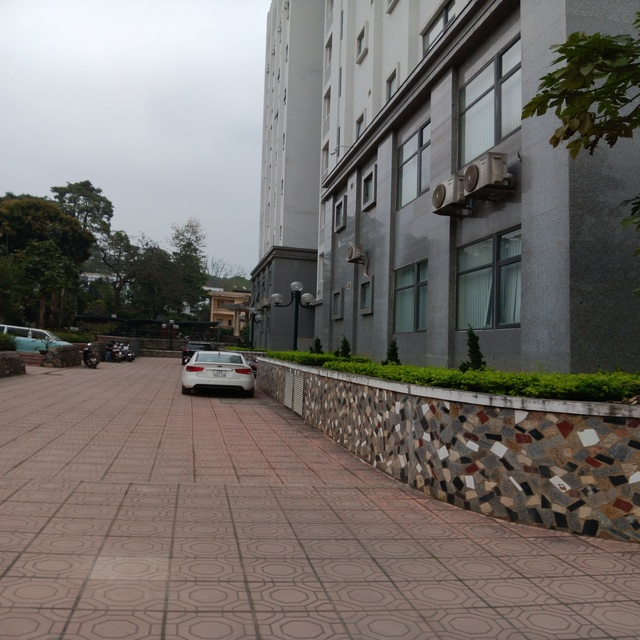cotden: (266, 277, 324, 356), (231, 304, 269, 354)
